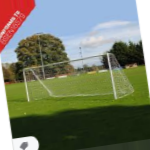goals: (19, 52, 136, 103)
